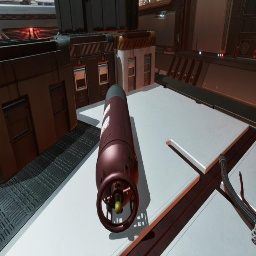NitrogenTank ,: (96, 84, 139, 233)
